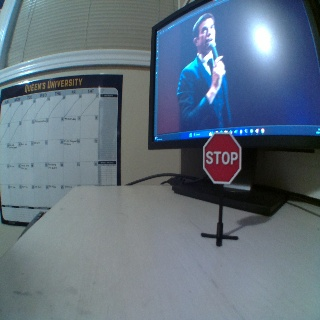sign_stop: (203, 132, 240, 183)
